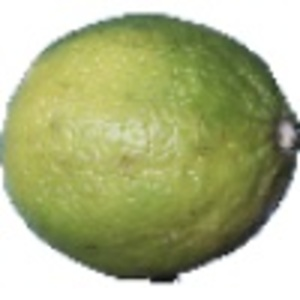limão: (1, 12, 300, 283)
